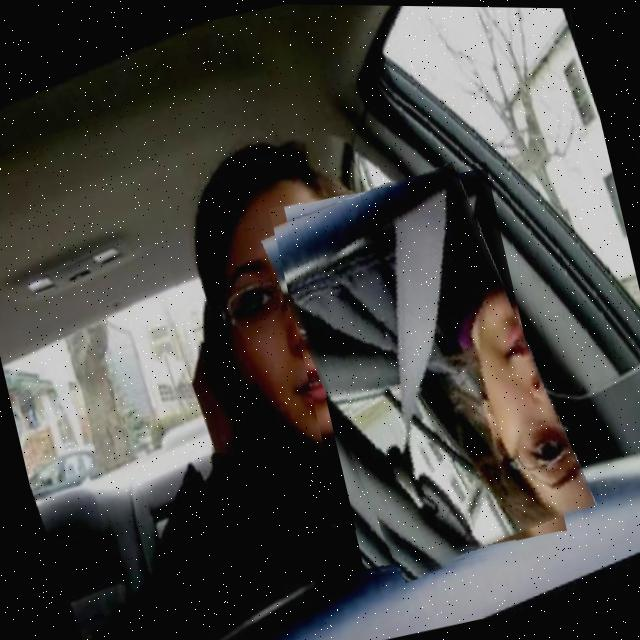seatbelt: (268, 154, 588, 587)
